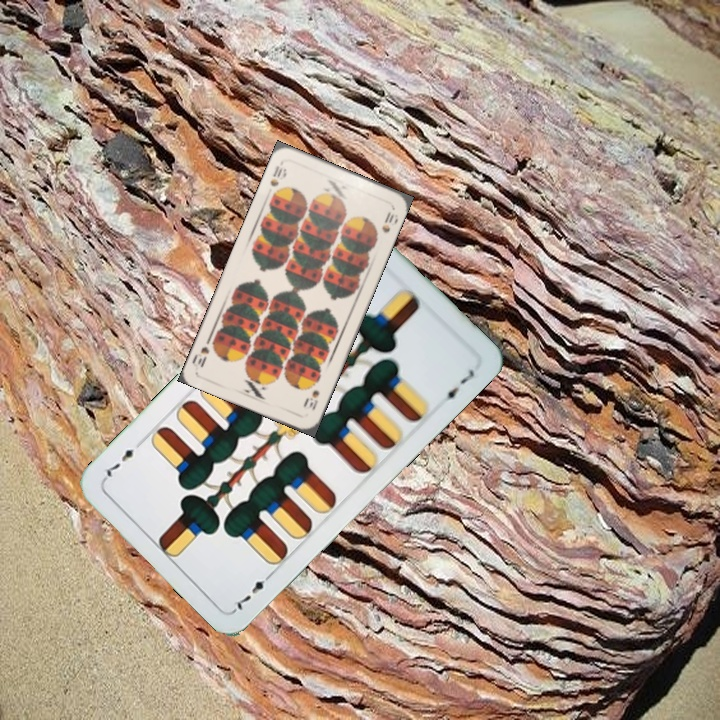E7: (229, 567, 277, 614)
S10: (266, 161, 289, 189), (301, 385, 322, 413)
